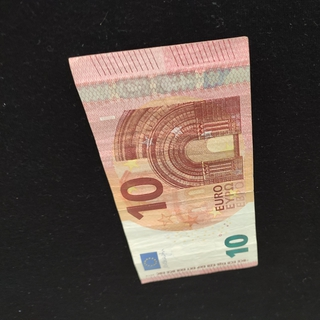10EUROFront: (68, 35, 259, 285)
